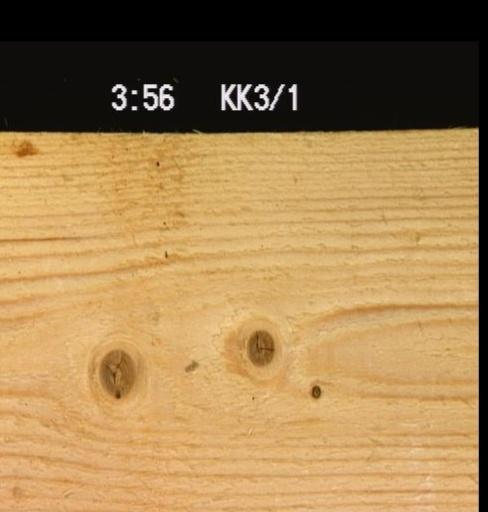dry_knot: (308, 383, 321, 398)
sound_knot: (94, 346, 137, 399), (243, 326, 274, 366)
